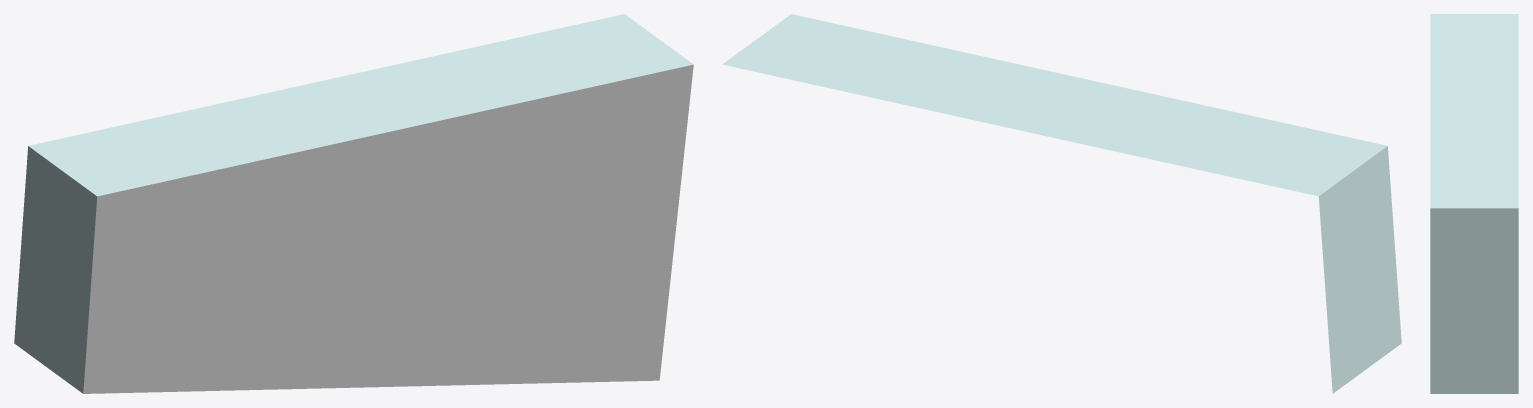
3 renders of one model, left to right at view 1: azimuth 30°, elevation 25°; view 2: azimuth 150°, elevation 25°; view 3: azimuth 270°, elevation 25°, orthographic. The views are drawn at different scales.
Parts seen in each view (by area): view 1: 0_0_2_0_3_2_3_0_3; view 2: 0_0_2_0_3_2_3_0_3; view 3: 0_0_2_0_3_2_3_0_3.
Boxes of the visible parts, x1,y1,x2,y2 form: 0_0_2_0_3_2_3_0_3: (14, 14, 693, 393); 0_0_2_0_3_2_3_0_3: (722, 14, 1401, 393); 0_0_2_0_3_2_3_0_3: (1430, 14, 1518, 393).
Bounding box in the file's own units: 15.31 × 7.7 × 3.
